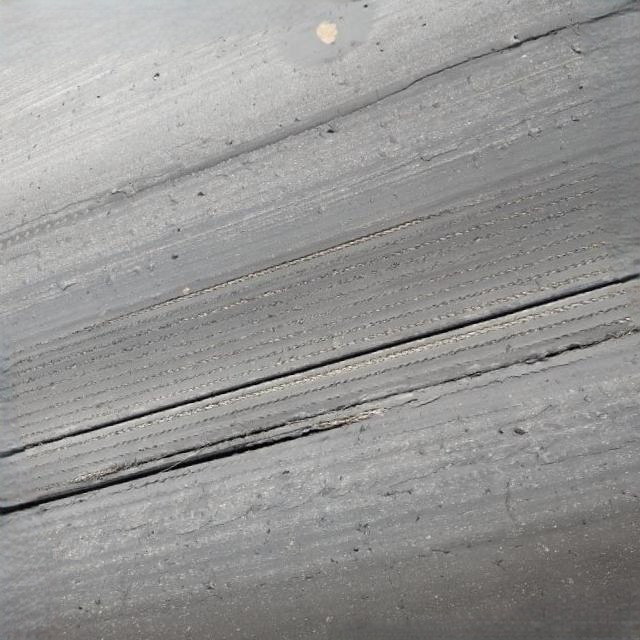Tear: (7, 260, 639, 460), (17, 399, 367, 518), (401, 10, 598, 101), (422, 316, 638, 396)
Wear: (11, 146, 618, 452)
